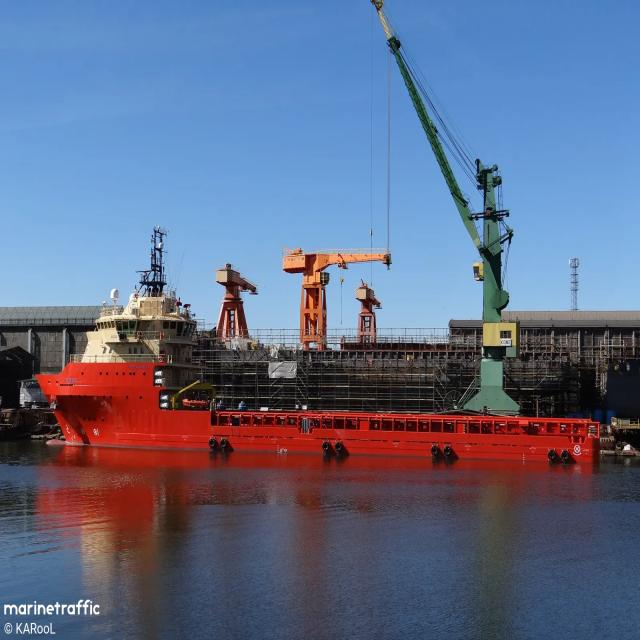Offshore: (35, 229, 599, 463)
